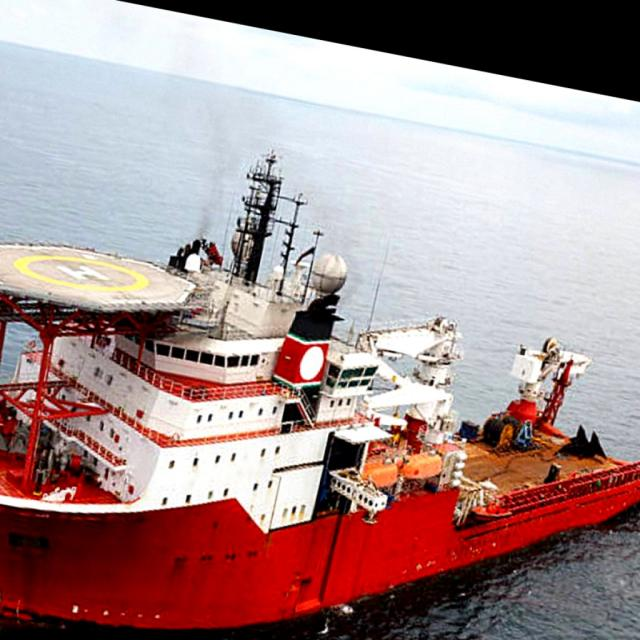helipad: (8, 250, 153, 298)
